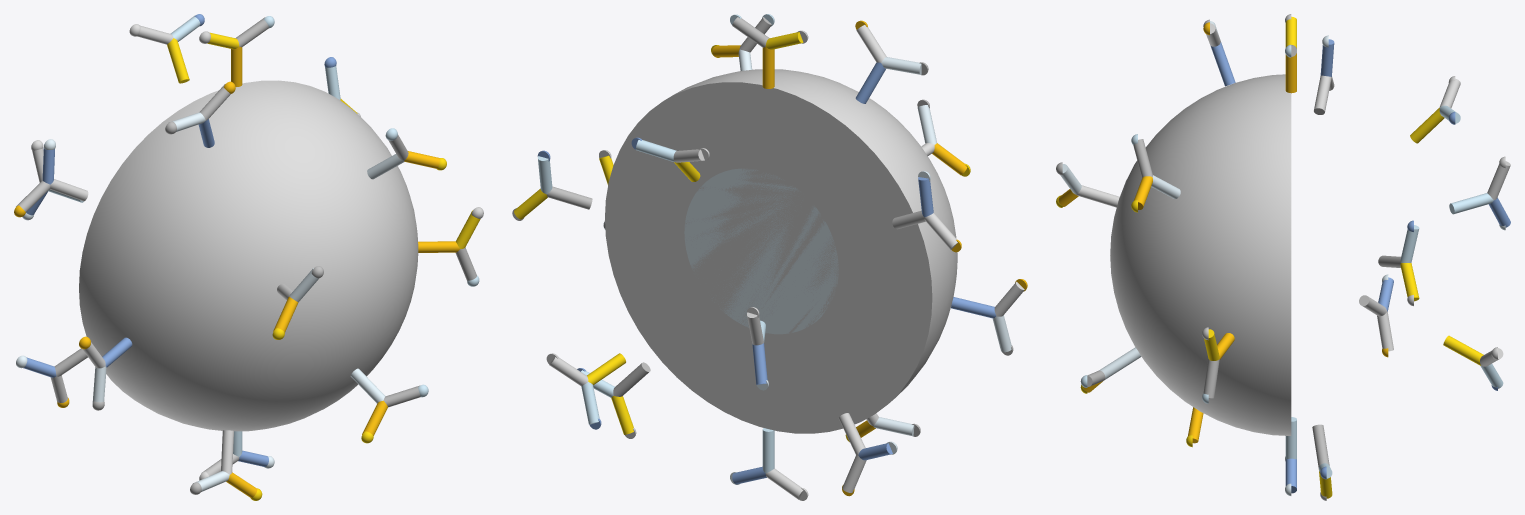
File: 15_B_cell - Composite part 1.glb
The picture shows the model from 3 angles, left to right: view 1: azimuth 30°, elevation 25°; view 2: azimuth 150°, elevation 25°; view 3: azimuth 270°, elevation 25°; orthographic projection. The views are drawn at different scales.
Parts seen in each view (by area): view 1: Open CASCADE STEP translator 7.9 15.1, Open CASCADE STEP translator 7.9 15.13, Open CASCADE STEP translator 7.9 15.73; view 2: Open CASCADE STEP translator 7.9 15.1, Open CASCADE STEP translator 7.9 15.2; view 3: Open CASCADE STEP translator 7.9 15.1, Open CASCADE STEP translator 7.9 15.38, Open CASCADE STEP translator 7.9 15.8, Open CASCADE STEP translator 7.9 15.58.
Part boxes in pixels (x1,y1,x2,y2): Open CASCADE STEP translator 7.9 15.1: (79,80,418,431); Open CASCADE STEP translator 7.9 15.13: (167,38,189,83); Open CASCADE STEP translator 7.9 15.73: (221,430,233,474); Open CASCADE STEP translator 7.9 15.1: (605,69,957,433); Open CASCADE STEP translator 7.9 15.2: (684,168,838,334); Open CASCADE STEP translator 7.9 15.1: (1110,74,1291,435); Open CASCADE STEP translator 7.9 15.38: (1449,193,1493,214); Open CASCADE STEP translator 7.9 15.8: (1210,42,1235,86); Open CASCADE STEP translator 7.9 15.58: (1099,347,1141,379).
Bounding box in the file's own units: 0.0182 × 0.0192 × 0.0176.
